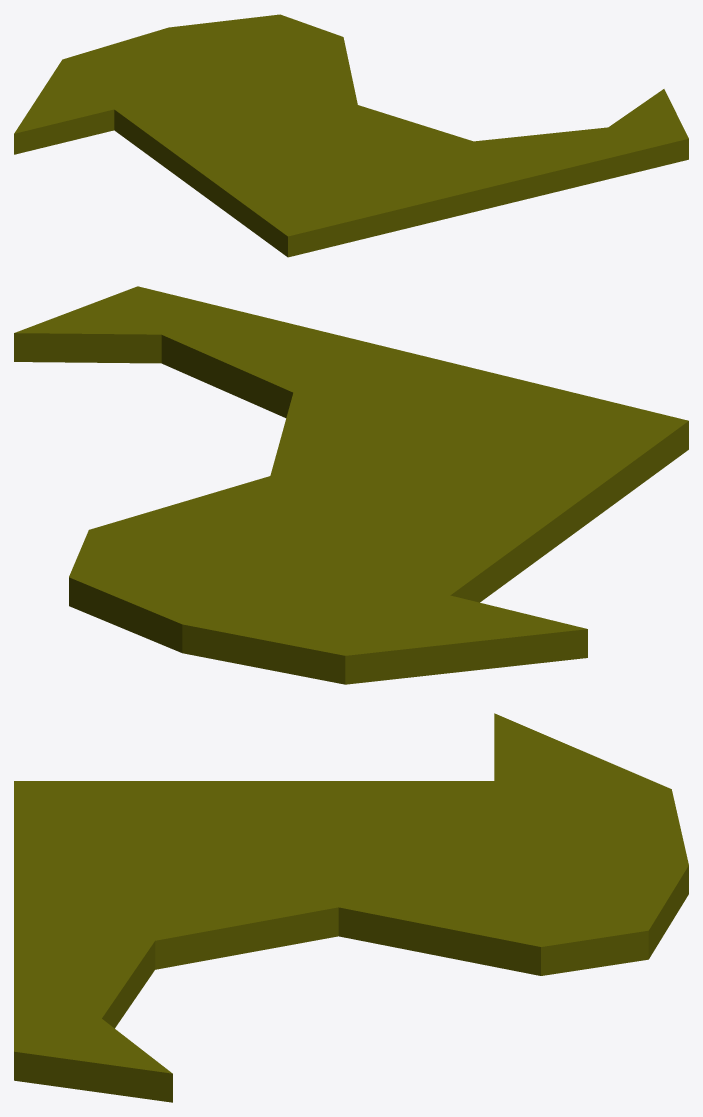
File: x_0_boloto_8_1_rmstrd.fbx
3 views of the same model, one above another, from view 1: azimuth 30°, elevation 25°; view 2: azimuth 150°, elevation 25°; view 3: azimuth 270°, elevation 25° (orthographic). The views are drawn at different scales.
Visible parts, largest first — view 1: x_0_boloto_8_1_rmstrd1; view 2: x_0_boloto_8_1_rmstrd1; view 3: x_0_boloto_8_1_rmstrd1.
Part boxes in pixels (x1=…): x_0_boloto_8_1_rmstrd1: x1=14, y1=14, x2=688, y2=257; x_0_boloto_8_1_rmstrd1: x1=14, y1=286, x2=688, y2=684; x_0_boloto_8_1_rmstrd1: x1=14, y1=713, x2=688, y2=1102.
Bounding box in the file's own units: 5.33 × 0.2 × 4.21.
